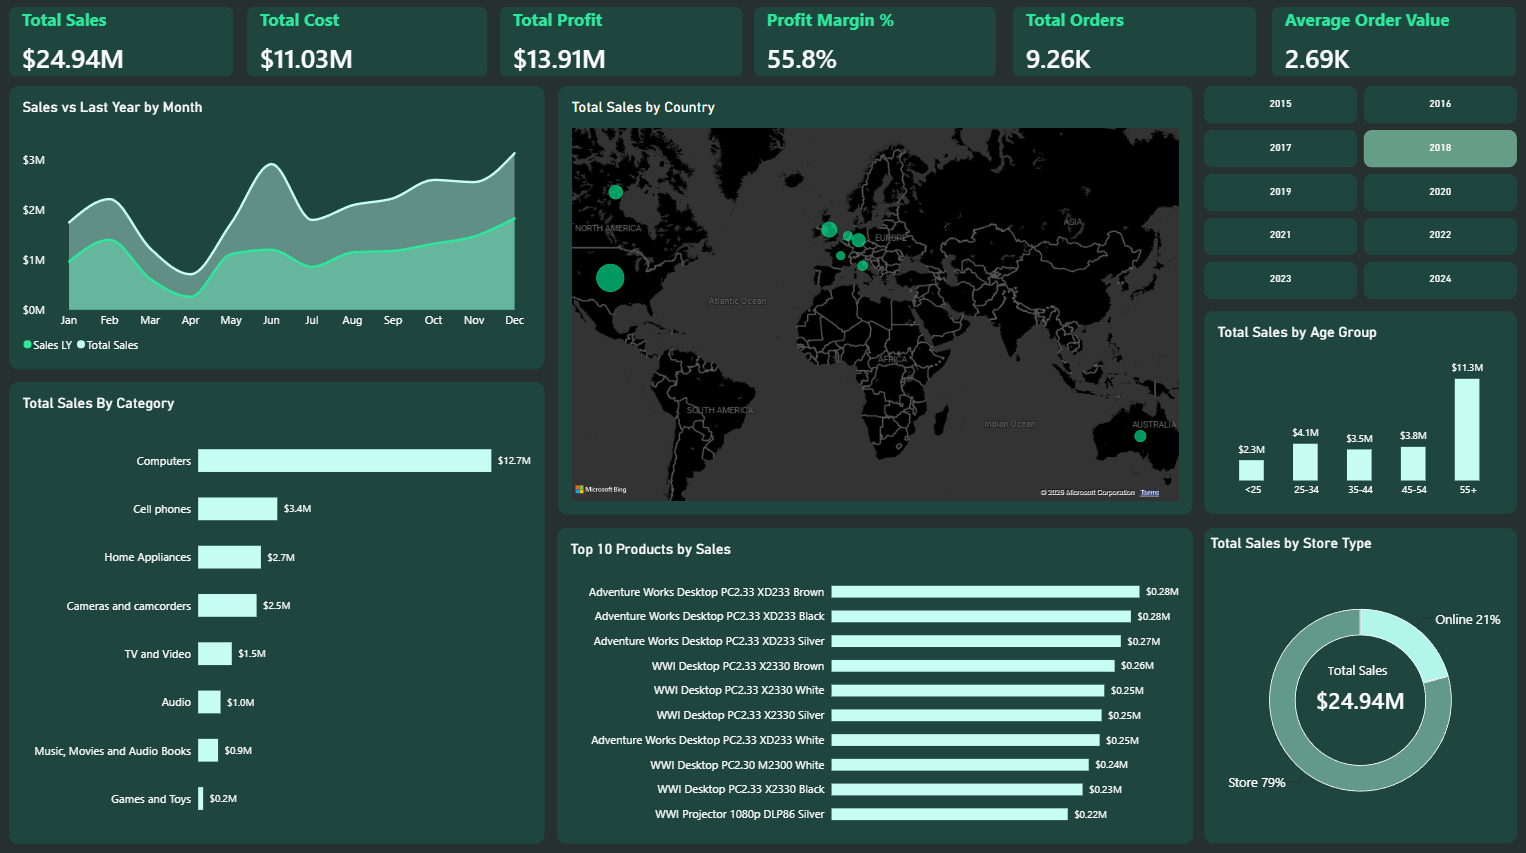

This screenshot's page, from the dashboard's own definition file:
{"tool":"powerbi","page":{"name":"Page 1","canvas":[1920,1080],"ordinal":0},"visuals":[{"type":"cardVisual","fields":{"Data":["Measures (2).Total Sales"]},"box":[14.6,11.9,281.8,87.3],"z":0},{"type":"cardVisual","fields":{"Data":["Measures (2).Total Profit"]},"box":[629.9,11.9,304.3,87.3],"z":1000},{"type":"cardVisual","fields":{"Data":["Measures (2).Total Cost"]},"box":[313.6,11.9,301.7,87.3],"z":2000},{"type":"cardVisual","fields":{"Data":["Measures (2).Profit Margin %"]},"box":[948.8,11.9,303,87.3],"z":3000},{"type":"cardVisual","fields":{"Data":["Measures (2).Total Orders"]},"box":[1272.9,11.9,305.7,87.3],"z":4000},{"type":"areaChart","title":"Sales vs Last Year by Month","fields":{"Category":["Date.MonthShort"],"Y":["Measures (2).Sales LY","Measures (2).Total Sales"]},"box":[15.1,111.9,670.8,355.4],"z":5000},{"type":"advancedSlicerVisual","fields":{"Values":["Date.Year"]},"box":[1512.3,111.5,392,268.3],"z":6000},{"type":"clusteredBarChart","title":"Total Sales By Category","fields":{"Category":["Product.Category"],"Y":["Measures (2).Total Sales"]},"box":[15.1,482.3,671.2,579],"z":7000},{"type":"map","title":"Total Sales by Country","fields":{"Category":["Store.Country","Customer.City"],"Size":["Measures (2).Total Sales"]},"box":[703,111.9,795.2,536.7],"z":8000},{"type":"clusteredBarChart","title":"Top 10 Products by Sales","fields":{"Category":["Product.ProductName"],"Y":["Measures (2).Total Sales"]},"box":[701.5,665.2,796.7,396.1],"z":9000},{"type":"donutChart","title":"Total Sales by Store Type","fields":{"Category":["Store.Store Type"],"Y":["Measures (2).Total Sales"]},"box":[1512.3,665.6,392,395.5],"z":10000},{"type":"cardVisual","fields":{"Data":["Measures (2).Average Order Value"]},"box":[1597.1,11.9,307,87.3],"z":11000},{"type":"clusteredColumnChart","title":"Total Sales by Age Group","fields":{"Category":["Customer.Age Group"],"Y":["Measures (2).Total Sales"]},"box":[1512.3,393.8,392,254.4],"z":12000},{"type":"textbox","box":[1668,832,113.4,37.8],"z":13000}]}

Visuals, with their boxes in screenshot pixels (x1, y1, x2, y2), scaled from the page's 1920x1080 canvas onto the 1526x853 screenshot:
cardVisual - Measures (2).Total Sales: select_region(12, 9, 236, 78)
cardVisual - Measures (2).Total Profit: select_region(501, 9, 742, 78)
cardVisual - Measures (2).Total Cost: select_region(249, 9, 489, 78)
cardVisual - Measures (2).Profit Margin %: select_region(754, 9, 995, 78)
cardVisual - Measures (2).Total Orders: select_region(1012, 9, 1255, 78)
"Sales vs Last Year by Month" areaChart: select_region(12, 88, 545, 369)
advancedSlicerVisual - Date.Year: select_region(1202, 88, 1514, 300)
"Total Sales By Category" clusteredBarChart: select_region(12, 381, 545, 838)
"Total Sales by Country" map: select_region(559, 88, 1191, 512)
"Top 10 Products by Sales" clusteredBarChart: select_region(558, 525, 1191, 838)
"Total Sales by Store Type" donutChart: select_region(1202, 526, 1514, 838)
cardVisual - Measures (2).Average Order Value: select_region(1269, 9, 1513, 78)
"Total Sales by Age Group" clusteredColumnChart: select_region(1202, 311, 1514, 512)
textbox: select_region(1326, 657, 1416, 687)
